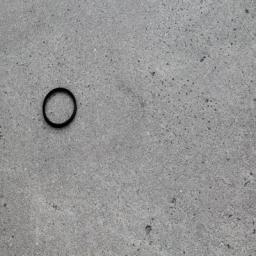FOD: (36, 86, 83, 134)
